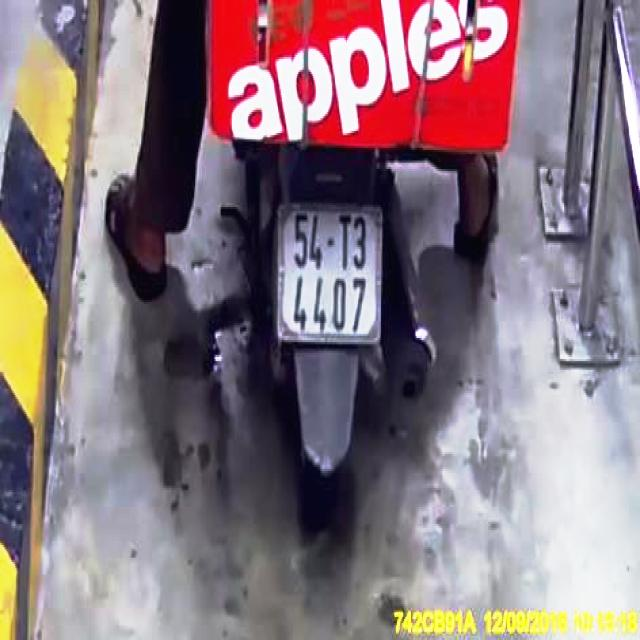license_plate: (279, 204, 383, 340)
